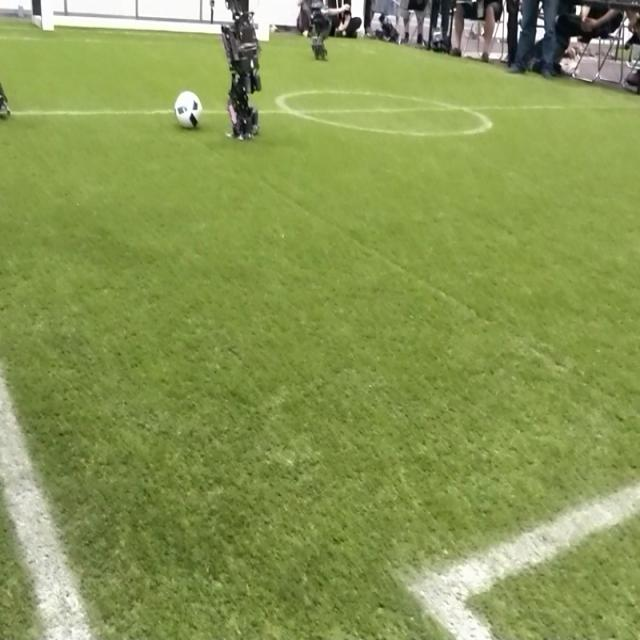ball: (174, 91, 205, 131)
goalpost: (253, 0, 271, 39), (41, 0, 57, 34)
